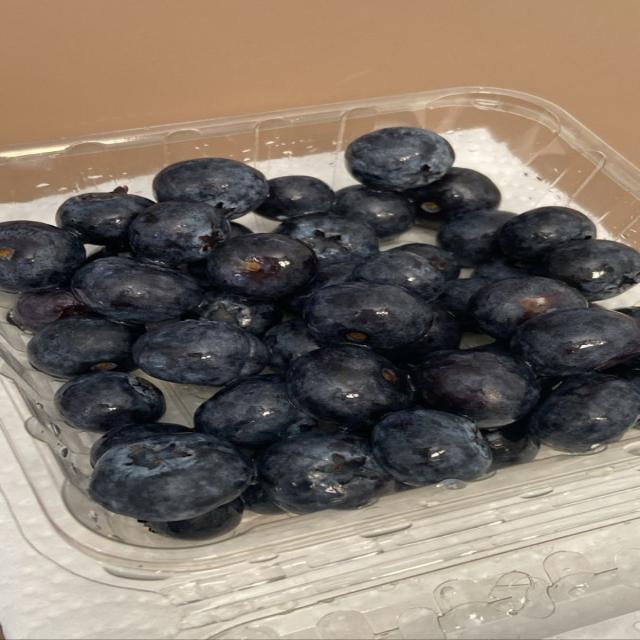blueberry: (90, 434, 253, 521), (257, 433, 391, 513), (287, 346, 412, 427), (412, 350, 540, 428), (372, 410, 492, 486), (194, 375, 316, 449), (133, 320, 267, 386), (512, 308, 639, 376), (530, 374, 639, 452), (72, 258, 201, 322), (305, 283, 432, 348), (470, 277, 588, 339), (207, 234, 317, 299), (28, 315, 140, 378), (153, 158, 268, 219), (346, 127, 455, 190), (55, 371, 164, 432), (129, 202, 230, 265), (0, 221, 86, 292), (403, 167, 500, 227), (56, 187, 154, 246), (546, 240, 639, 301), (499, 206, 596, 262), (275, 213, 378, 262), (381, 304, 461, 365), (353, 251, 445, 301), (91, 423, 192, 466), (439, 210, 513, 267), (285, 259, 360, 315), (333, 186, 415, 237), (146, 499, 243, 540), (196, 291, 282, 335), (9, 288, 91, 332), (256, 175, 333, 220), (263, 319, 320, 371), (484, 420, 539, 469), (391, 243, 459, 279), (439, 279, 486, 330), (472, 258, 533, 282), (241, 482, 284, 515), (606, 362, 639, 389), (186, 259, 212, 289), (187, 258, 212, 287), (87, 246, 132, 262), (230, 222, 254, 237), (614, 307, 639, 321)
